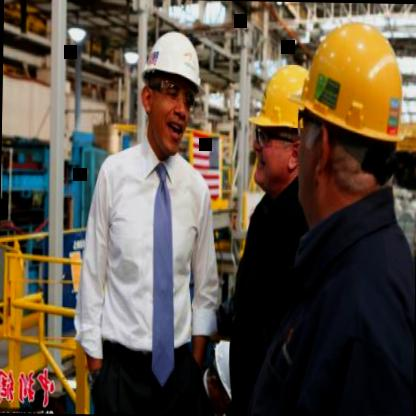helmet: (276, 4, 415, 220), (245, 45, 330, 195), (130, 18, 214, 147)
